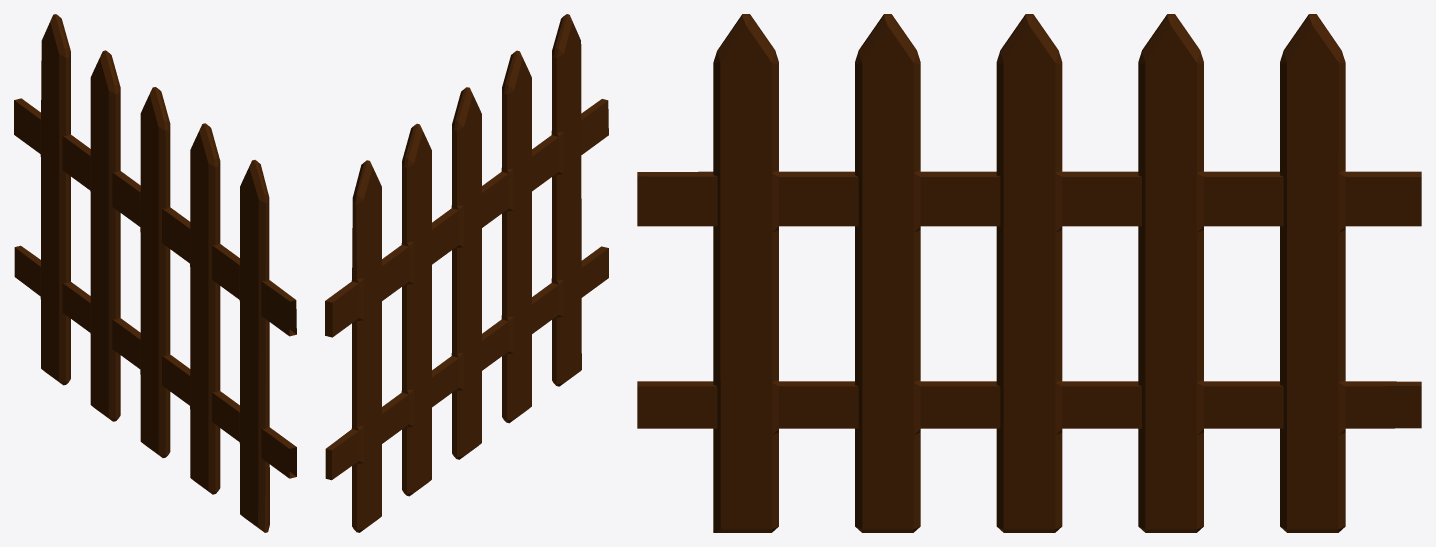
Rendered from PAGAR_BESI-KAYU_TANPA-PEMISAH.fbx.
3 views of the same model, side by side, from view 1: azimuth 30°, elevation 25°; view 2: azimuth 150°, elevation 25°; view 3: azimuth 270°, elevation 25° (orthographic). The views are drawn at different scales.
Visible parts, largest first — view 1: Cube; view 2: Cube; view 3: Cube.
Boxes of the visible parts, box(x1,y1,x2,y2) form: Cube: box(14, 14, 296, 532); Cube: box(325, 14, 608, 532); Cube: box(637, 14, 1421, 532).
Bounding box in the file's own units: 0.594 × 17.33 × 23.83.
